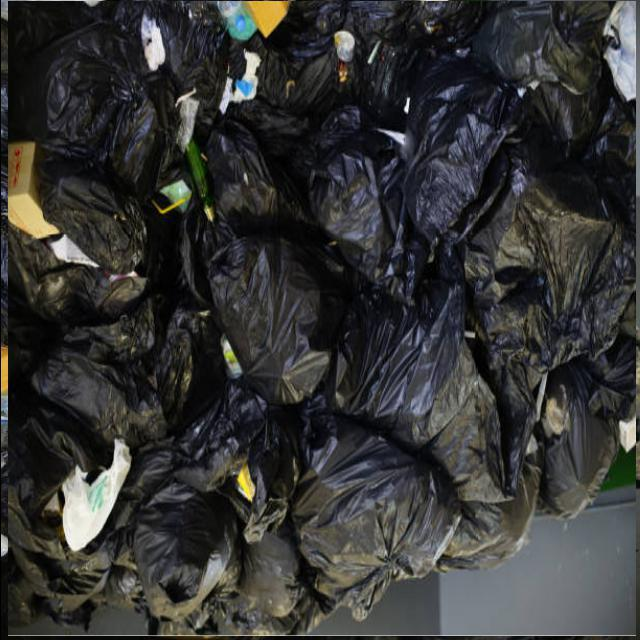Trashbag: (474, 155, 623, 377), (308, 426, 437, 606), (208, 226, 335, 396), (342, 267, 453, 435), (447, 384, 538, 575), (489, 11, 628, 126), (201, 100, 312, 216), (552, 365, 628, 534), (311, 124, 407, 255), (56, 60, 156, 185), (9, 447, 78, 628), (218, 518, 317, 627), (126, 482, 206, 616), (54, 174, 164, 268), (36, 357, 152, 445), (412, 90, 470, 243), (248, 7, 338, 100), (157, 12, 243, 94), (342, 1, 406, 109), (23, 265, 131, 326), (197, 354, 248, 479), (248, 419, 302, 518), (156, 319, 196, 418), (407, 4, 481, 47), (400, 49, 471, 74)
